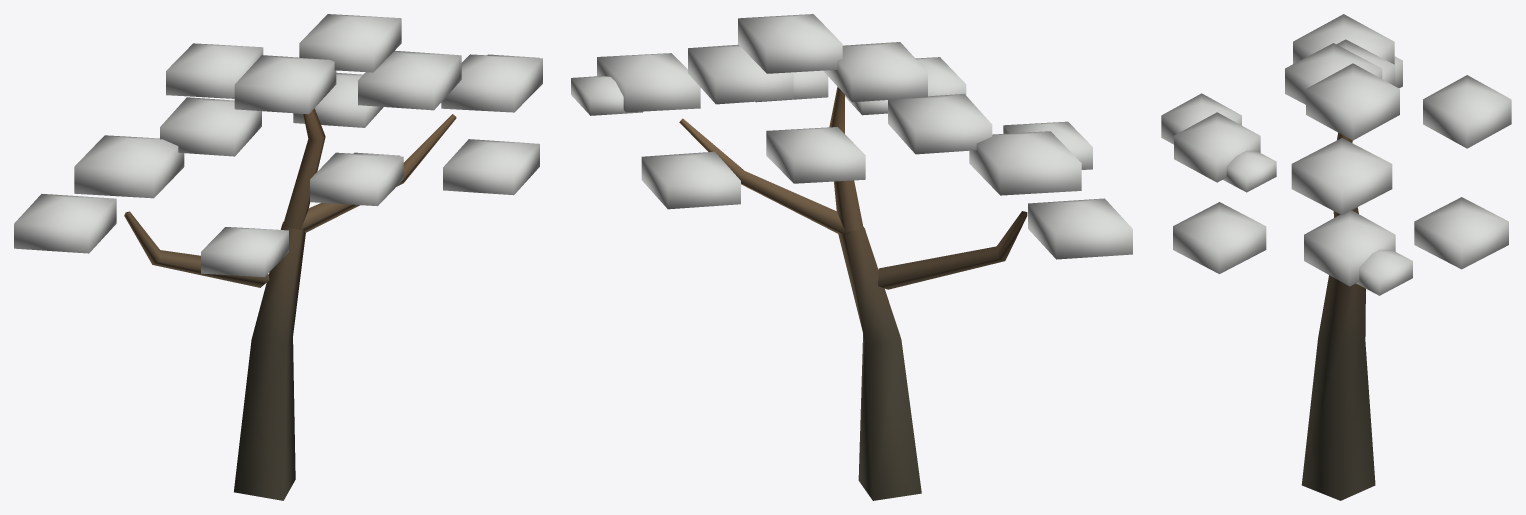
3 renders of one model, left to right at view 1: azimuth 30°, elevation 25°; view 2: azimuth 150°, elevation 25°; view 3: azimuth 270°, elevation 25°, orthographic. The views are drawn at different scales.
Parts seen in each view (by area): view 1: crown, trunk; view 2: crown, trunk; view 3: crown, trunk.
Boxes of the visible parts, x1,y1,x2,y2 form: crown: (14, 14, 542, 277); trunk: (124, 108, 456, 500); crown: (571, 14, 1132, 259); trunk: (679, 86, 1027, 500); crown: (1161, 14, 1511, 295); trunk: (1301, 132, 1375, 500).
Bounding box in the file's own units: 10.36 × 8.16 × 5.67.
